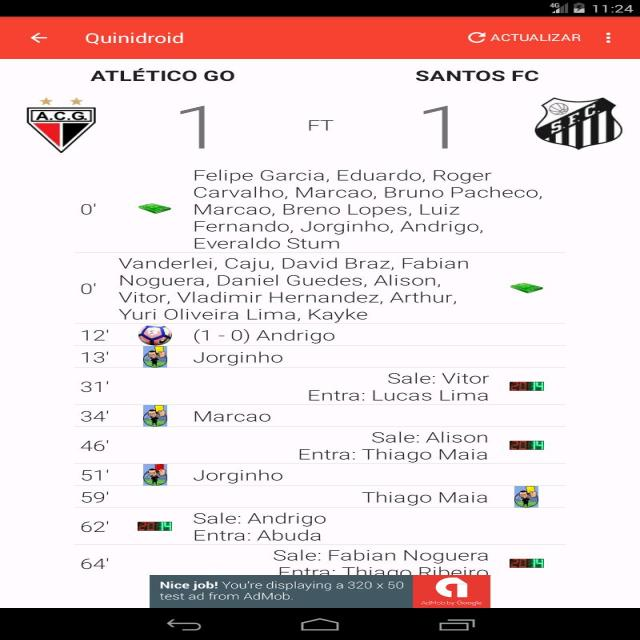button: (466, 28, 586, 52), (18, 28, 61, 51), (595, 25, 620, 45)
heading: (82, 30, 193, 47)
iframe: (149, 575, 489, 609)
image: (523, 95, 632, 155), (22, 95, 102, 157), (133, 321, 172, 346), (499, 375, 548, 394), (138, 195, 172, 220), (134, 347, 172, 368), (510, 279, 546, 299), (512, 484, 538, 508), (502, 437, 546, 451), (140, 403, 166, 424), (141, 463, 167, 483), (131, 520, 177, 531), (507, 558, 545, 570)
text: (59, 165, 544, 250), (58, 257, 551, 322), (67, 541, 552, 584), (66, 425, 551, 463), (64, 370, 550, 405), (67, 511, 549, 541), (67, 485, 549, 510), (59, 324, 549, 346), (62, 347, 552, 369), (68, 463, 550, 485), (66, 408, 550, 424), (88, 66, 238, 86), (416, 67, 538, 85)
